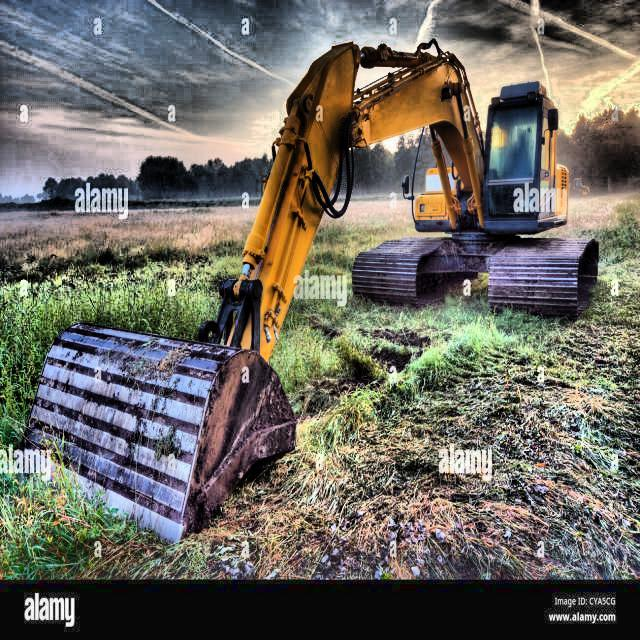excavator: (9, 32, 606, 548)
